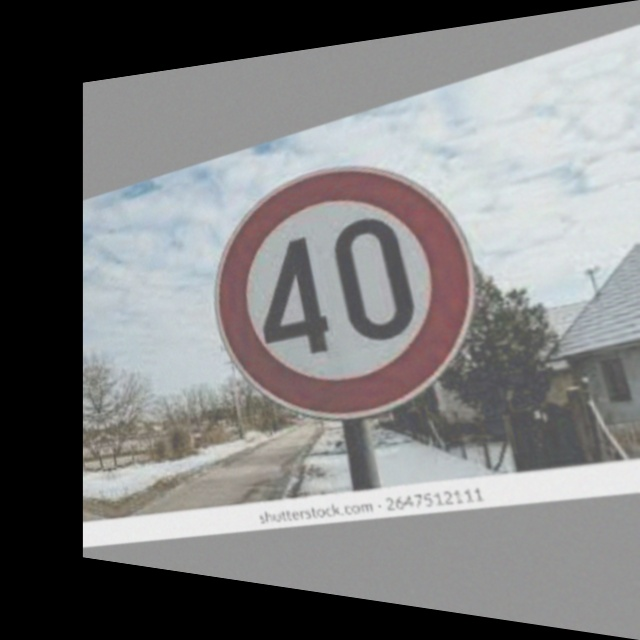Speed_Limit_40: (204, 132, 498, 445)
